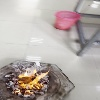fire: (15, 69, 49, 95)
